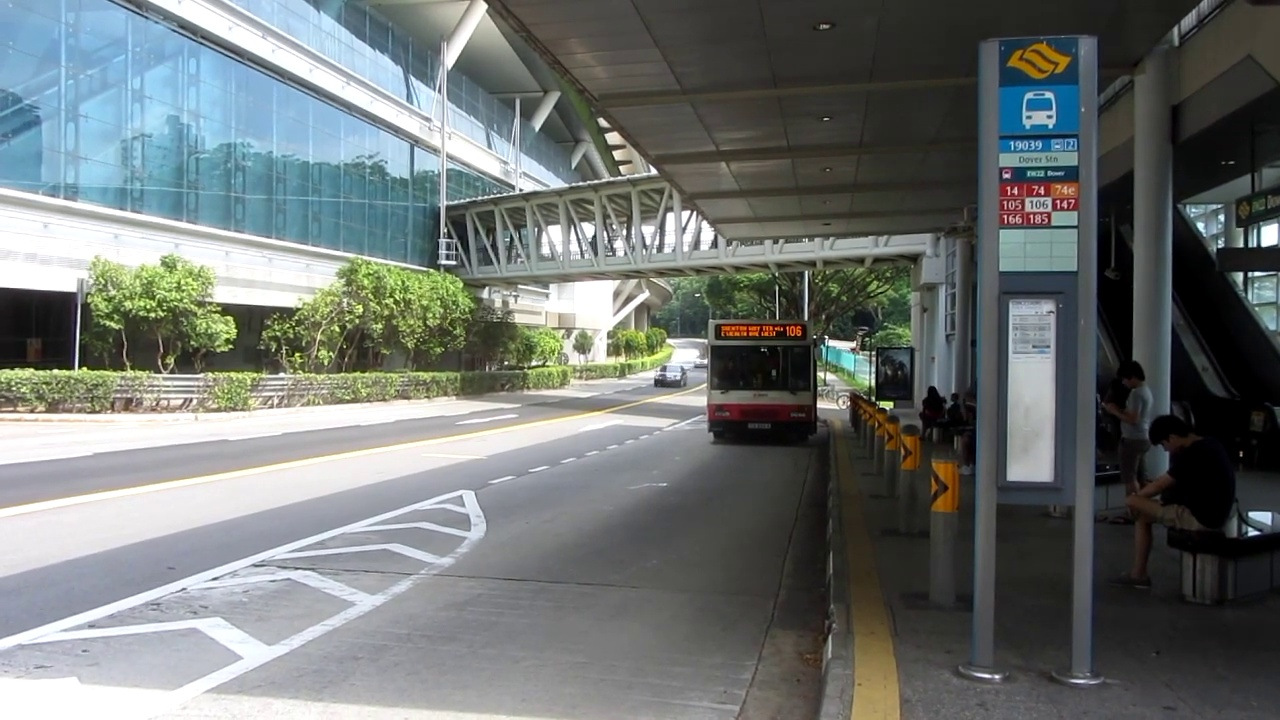bus panel: (714, 323, 807, 341)
